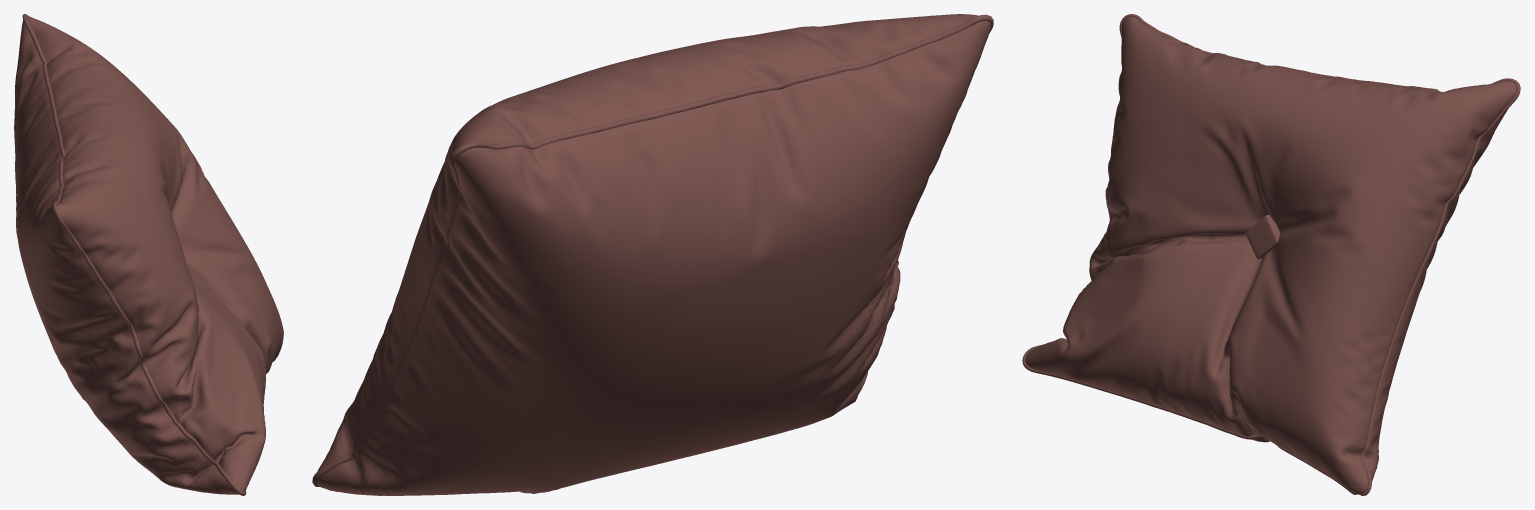
File: Sofa_Cushion.fbx
The picture shows the model from 3 angles, left to right: view 1: azimuth 30°, elevation 25°; view 2: azimuth 150°, elevation 25°; view 3: azimuth 270°, elevation 25°; orthographic projection. The views are drawn at different scales.
Parts seen in each view (by area): view 1: Sofa_Cushion; view 2: Sofa_Cushion; view 3: Sofa_Cushion.
Part boxes in pixels (left/top/right/bottom): Sofa_Cushion: left=14, top=14, right=283, bottom=495; Sofa_Cushion: left=312, top=14, right=993, bottom=495; Sofa_Cushion: left=1022, top=14, right=1520, bottom=495.
Bounding box in the file's own units: 44.79 × 41.61 × 56.57.
